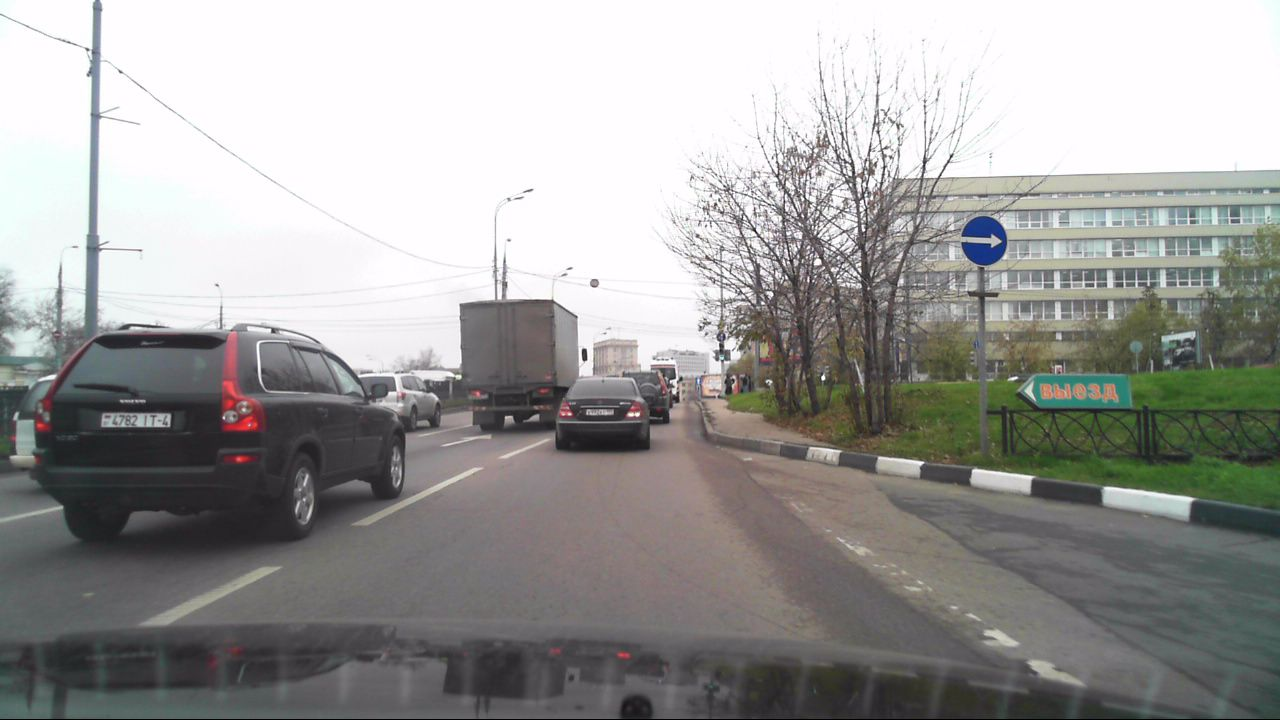Turn Right: (960, 215, 1007, 266)
